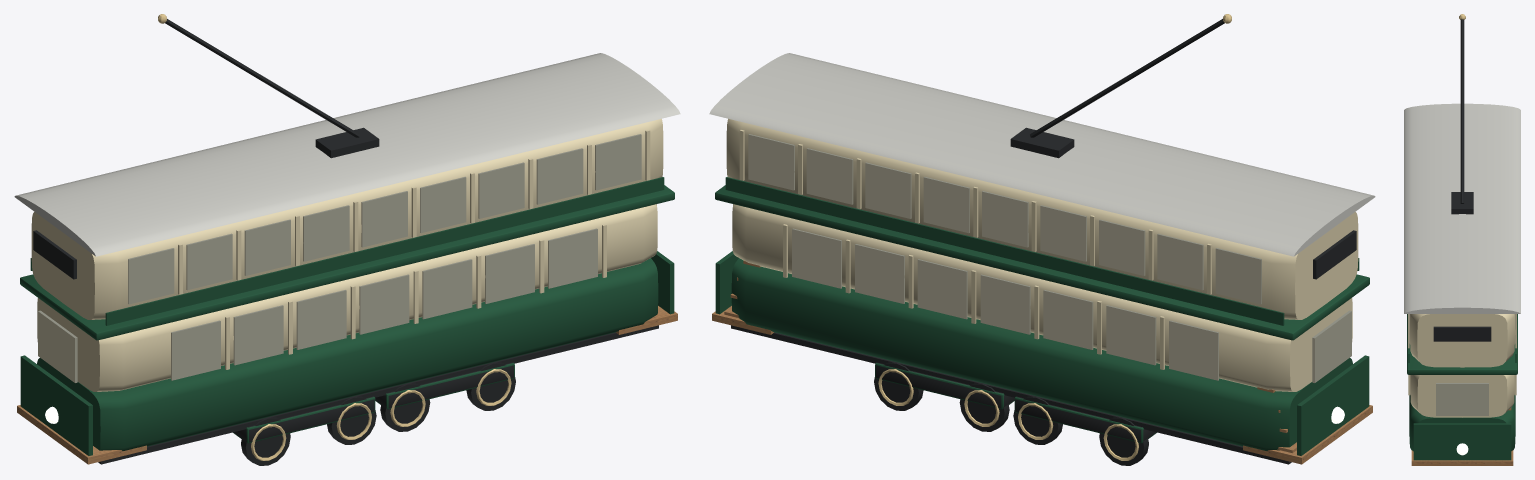
The model's file is tram_hk.glb.
The picture shows the model from 3 angles, left to right: view 1: azimuth 30°, elevation 25°; view 2: azimuth 150°, elevation 25°; view 3: azimuth 270°, elevation 25°; orthographic projection. The views are drawn at different scales.
Visible parts, largest first — view 1: tram_hk; view 2: tram_hk; view 3: tram_hk.
Part boxes in pixels (x1=…): tram_hk: x1=14, y1=14, x2=680, y2=465; tram_hk: x1=709, y1=14, x2=1375, y2=465; tram_hk: x1=1404, y1=14, x2=1520, y2=465.
Bounding box in the file's own units: 11.24 × 7.92 × 2.64.
8 materials, 1 textured.
